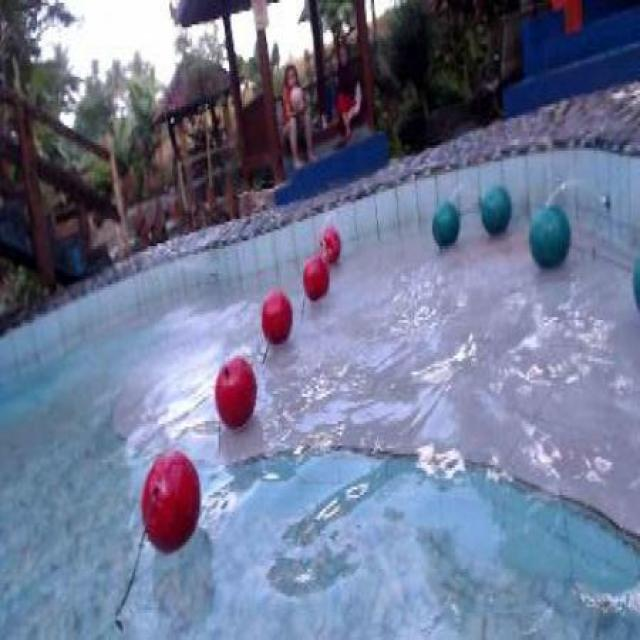buoy: (139, 447, 199, 554), (527, 201, 571, 270), (215, 356, 256, 426), (260, 285, 293, 344), (430, 201, 460, 247), (480, 185, 510, 230), (302, 252, 329, 300), (318, 226, 340, 266)
